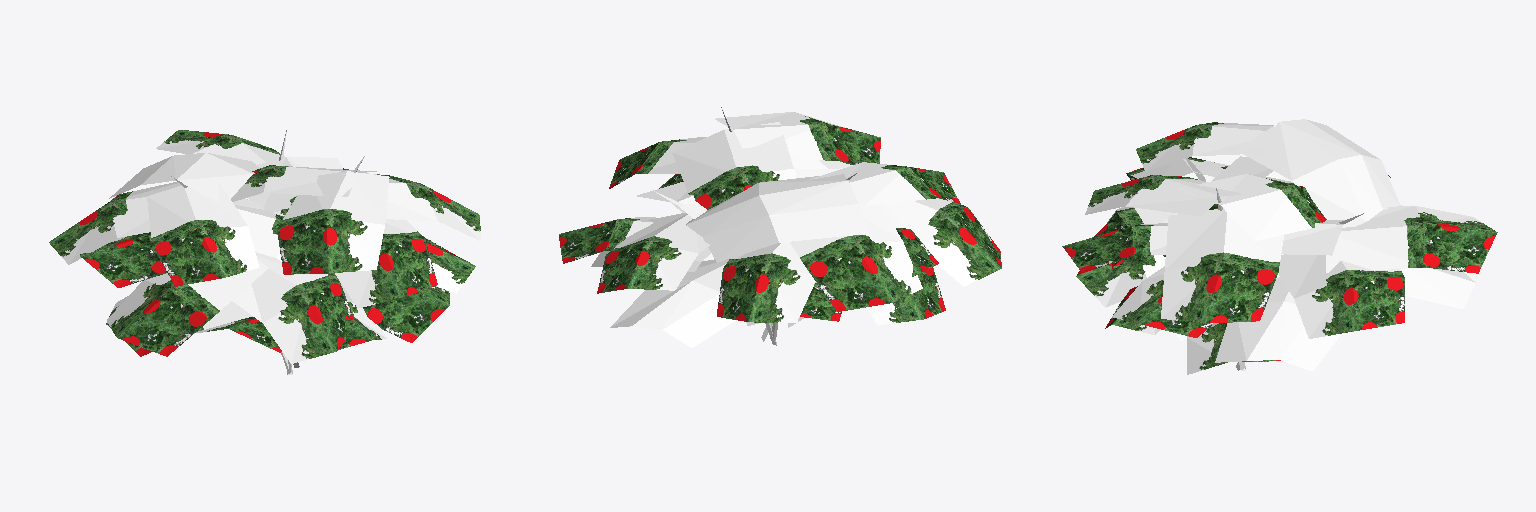
3 renders of one model, left to right at view 1: azimuth 30°, elevation 25°; view 2: azimuth 150°, elevation 25°; view 3: azimuth 270°, elevation 25°, orthographic.
Visible parts, largest first — view 1: polySurface185; view 2: polySurface185; view 3: polySurface185.
Part boxes in pixels (bbox=[...]): polySurface185: bbox=[49, 130, 480, 374]; polySurface185: bbox=[559, 107, 1001, 347]; polySurface185: bbox=[1062, 112, 1497, 374].
Size of the model in its own units: 14.93 by 8.27 by 15.1.
1 materials, 1 textured.